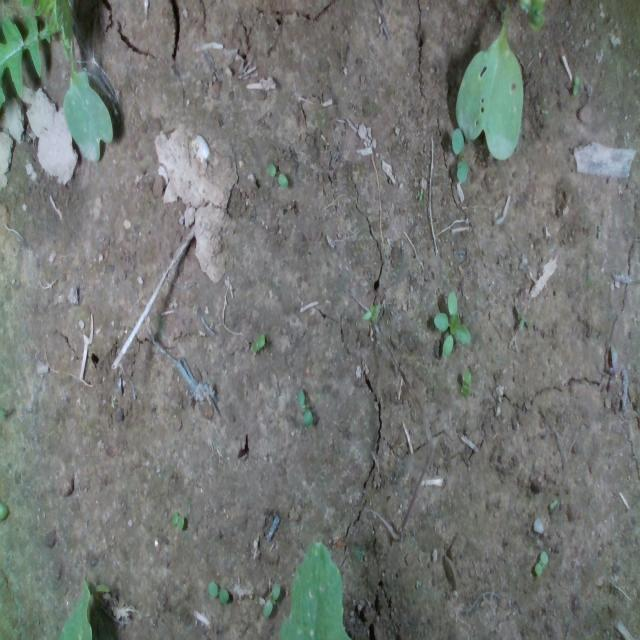weed: (432, 286, 471, 356), (262, 581, 280, 617), (296, 388, 312, 426), (266, 162, 288, 188), (206, 580, 228, 602), (361, 300, 381, 322), (534, 548, 548, 577), (250, 332, 264, 354), (170, 510, 184, 531), (572, 73, 580, 96), (548, 496, 558, 511), (418, 187, 422, 201)
